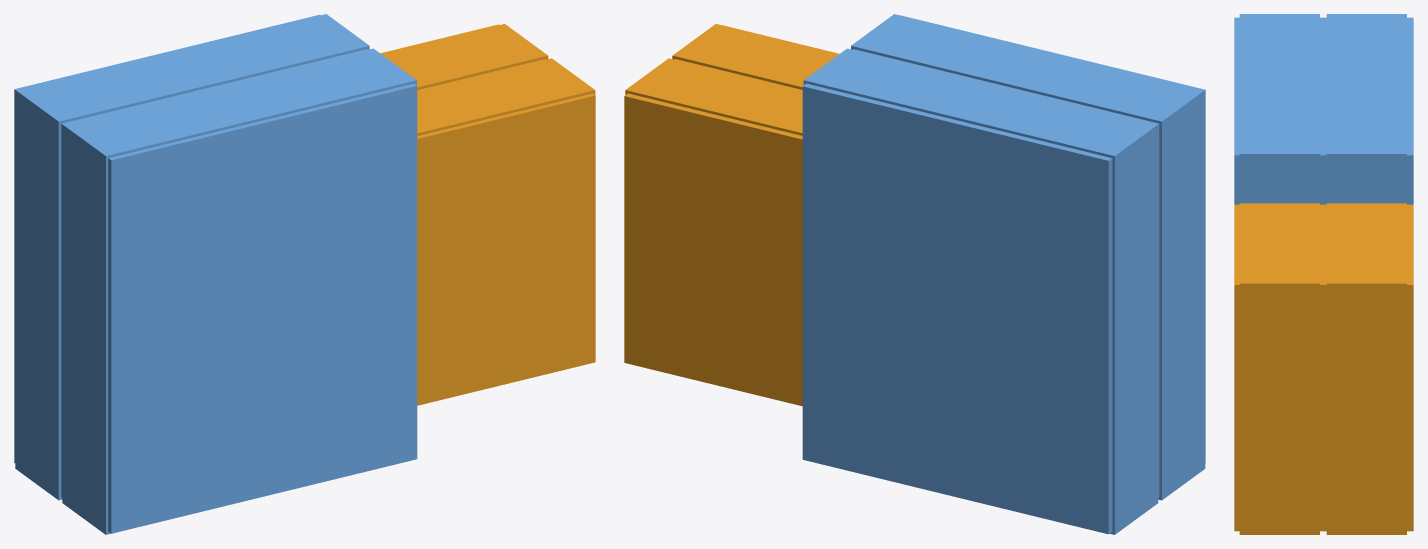
The model's file is 18_central_model_3d.obj.
The picture shows the model from 3 angles, left to right: view 1: azimuth 30°, elevation 25°; view 2: azimuth 150°, elevation 25°; view 3: azimuth 270°, elevation 25°; orthographic projection. The views are drawn at different scales.
Visible parts, largest first — view 1: ROOF-BLD-EXISTING, ROOF-BLD-EXTENSION, WALL-EX-L00-W, WALL-EX-L01-W, WALL-EX-L00-N, WALL-EX-L01-N, WALL-NEW-L01-N, WALL-NEW-L00-N, SLAB-BLD-EXISTING-L01, SLAB-BLD-EXISTING-L00; view 2: SLAB-BLD-EXISTING-L00, SLAB-BLD-EXTENSION-L00, WALL-EX-L00-W, WALL-EX-L01-W, WALL-EX-L01-N, WALL-EX-L00-N, WALL-NEW-L00-N, WALL-NEW-L01-N, SLAB-BLD-EXISTING-L01; view 3: WALL-NEW-L01-E, WALL-NEW-L00-E, WALL-EX-L00-N, WALL-EX-L01-N, WALL-NEW-L00-N, WALL-NEW-L01-N, WALL-EX-L00-E-N, WALL-EX-L01-E-N, SLAB-BLD-EXTENSION-L00, SLAB-BLD-EXTENSION-L01, ROOF-BLD-EXTENSION, SLAB-BLD-EXISTING-L00 (+4 smaller).
Part boxes in pixels (x1,y1,x2,y2): ROOF-BLD-EXISTING: (108, 83, 417, 533); ROOF-BLD-EXTENSION: (417, 93, 595, 405); WALL-EX-L00-W: (15, 89, 63, 499); WALL-EX-L01-W: (62, 123, 110, 534); WALL-EX-L00-N: (15, 14, 369, 126); WALL-EX-L01-N: (62, 49, 415, 161); WALL-NEW-L01-N: (417, 58, 594, 135); WALL-NEW-L00-N: (381, 24, 546, 89); SLAB-BLD-EXISTING-L01: (61, 49, 367, 497); SLAB-BLD-EXISTING-L00: (14, 14, 320, 462); SLAB-BLD-EXISTING-L00: (802, 83, 1112, 534); SLAB-BLD-EXTENSION-L00: (624, 93, 802, 406); WALL-EX-L00-W: (1110, 123, 1158, 534); WALL-EX-L01-W: (1157, 89, 1205, 499); WALL-EX-L01-N: (851, 14, 1205, 126); WALL-EX-L00-N: (803, 49, 1158, 161); WALL-NEW-L00-N: (626, 59, 802, 135); WALL-NEW-L01-N: (673, 24, 838, 89); SLAB-BLD-EXISTING-L01: (853, 49, 1159, 497); WALL-NEW-L01-E: (1239, 281, 1319, 534); WALL-NEW-L00-E: (1326, 281, 1406, 534); WALL-EX-L00-N: (1326, 14, 1406, 158); WALL-EX-L01-N: (1239, 14, 1319, 158); WALL-NEW-L00-N: (1326, 203, 1406, 288); WALL-NEW-L01-N: (1239, 203, 1319, 288); WALL-EX-L00-E-N: (1326, 151, 1406, 203); WALL-EX-L01-E-N: (1239, 151, 1319, 203); SLAB-BLD-EXTENSION-L00: (1407, 204, 1413, 531); SLAB-BLD-EXTENSION-L01: (1320, 204, 1326, 531); ROOF-BLD-EXTENSION: (1234, 204, 1239, 531); SLAB-BLD-EXISTING-L00: (1407, 17, 1413, 204).
Bounding box in the file's own units: 19.2 × 14.2 × 6.6.
